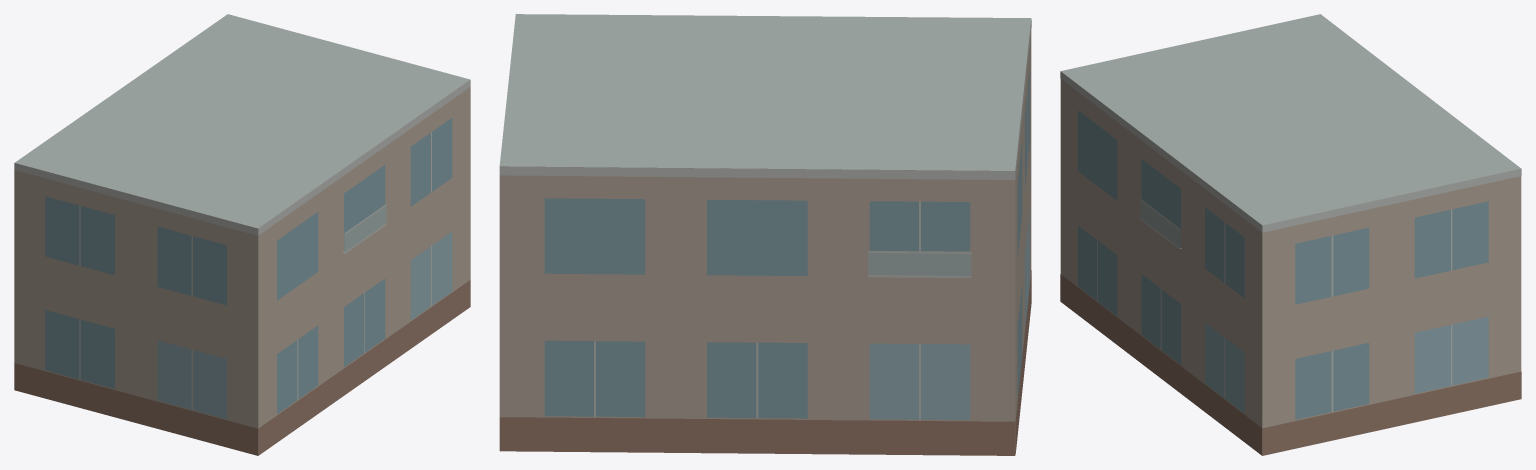
The model's file is survey-upis-32610608.glb.
3 renders of one model, left to right at view 1: azimuth 30°, elevation 25°; view 2: azimuth 150°, elevation 25°; view 3: azimuth 270°, elevation 25°, orthographic. The views are drawn at different scales.
Visible parts, largest first — view 1: survey-upis-32610608.tmp; view 2: survey-upis-32610608.tmp; view 3: survey-upis-32610608.tmp.
Part boxes in pixels (x1,y1,x2,y2): survey-upis-32610608.tmp: (14, 14, 470, 455); survey-upis-32610608.tmp: (499, 14, 1031, 455); survey-upis-32610608.tmp: (1060, 14, 1521, 455).
Size of the model in its own units: 15.16 by 7.7 by 13.97.
